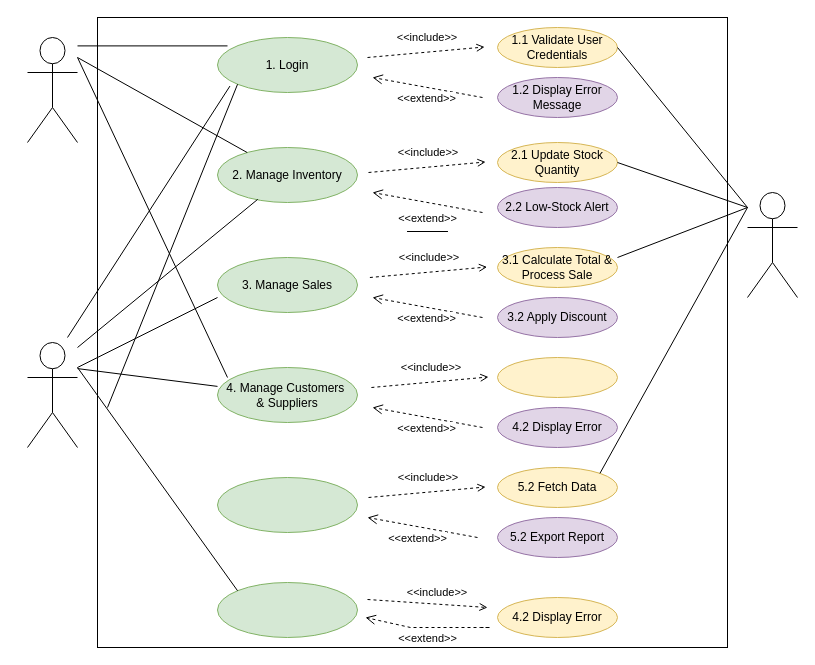
The diagram is 815 pixels wide and 665 high, and some of its shapes have lost their labels. Here are the shapes that lost their labels. From the top down, the centre of each, then its label:
point 52,89: Administrator
point 772,245: Manager
point 52,395: Sales Staff
point 557,377: 4.1 Validate Customer/Supplier Data
point 287,504: 5. Generate Reports
point 287,610: 6. Manage Users & Roles
